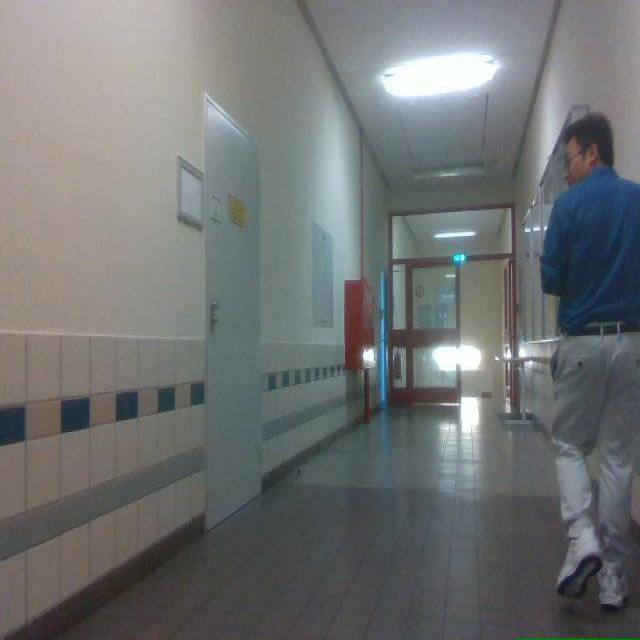humans: (541, 114, 639, 609)
